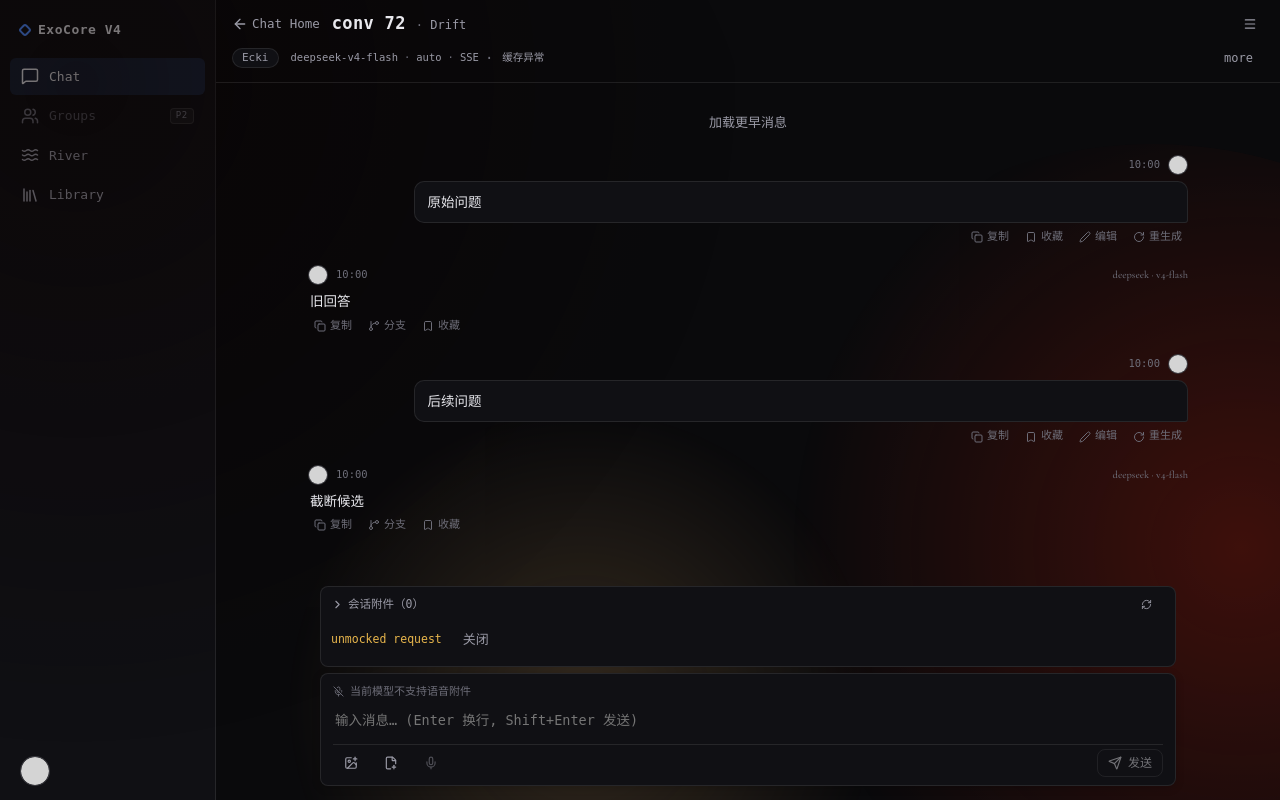
C1B-R1 repair invariants — canonical reconciliation (R1-03) › destructive regenerate resets the whole family; truncated descendants cannot return via older pages
Expected: the text "截断候选" is shown, [310,493,364,509]
Note: Load an older page so stale offset rows are cached.
Click the button "加载更早消息". click: {"x": 748, "y": 123}
box: [694,105,802,140]
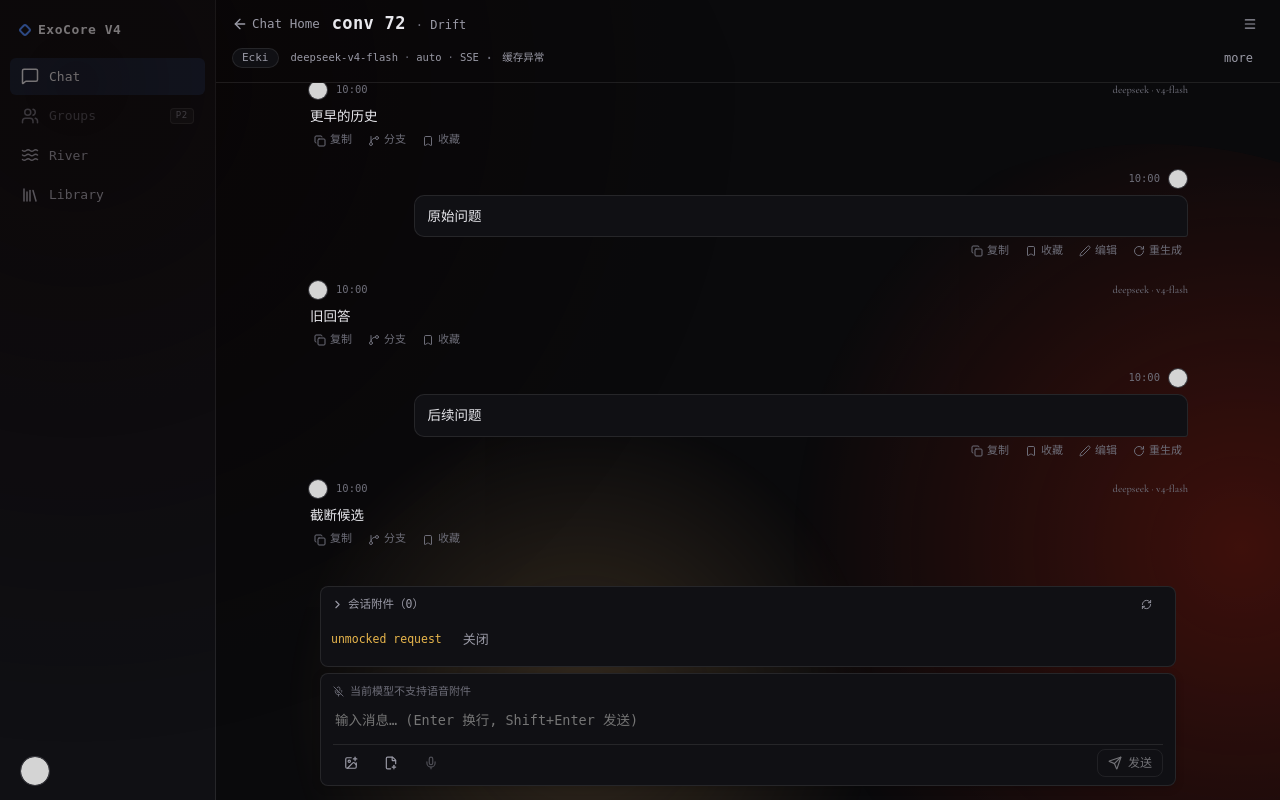
Now the text "更早的历史" is shown, box [310,108,378,124]
Note: Regenerate the FIRST (non-latest) user message → truncation confirm.
Click the button with aria-label "重新生成回答". click: {"x": 1158, "y": 251}
box: [1127,241,1188,262]
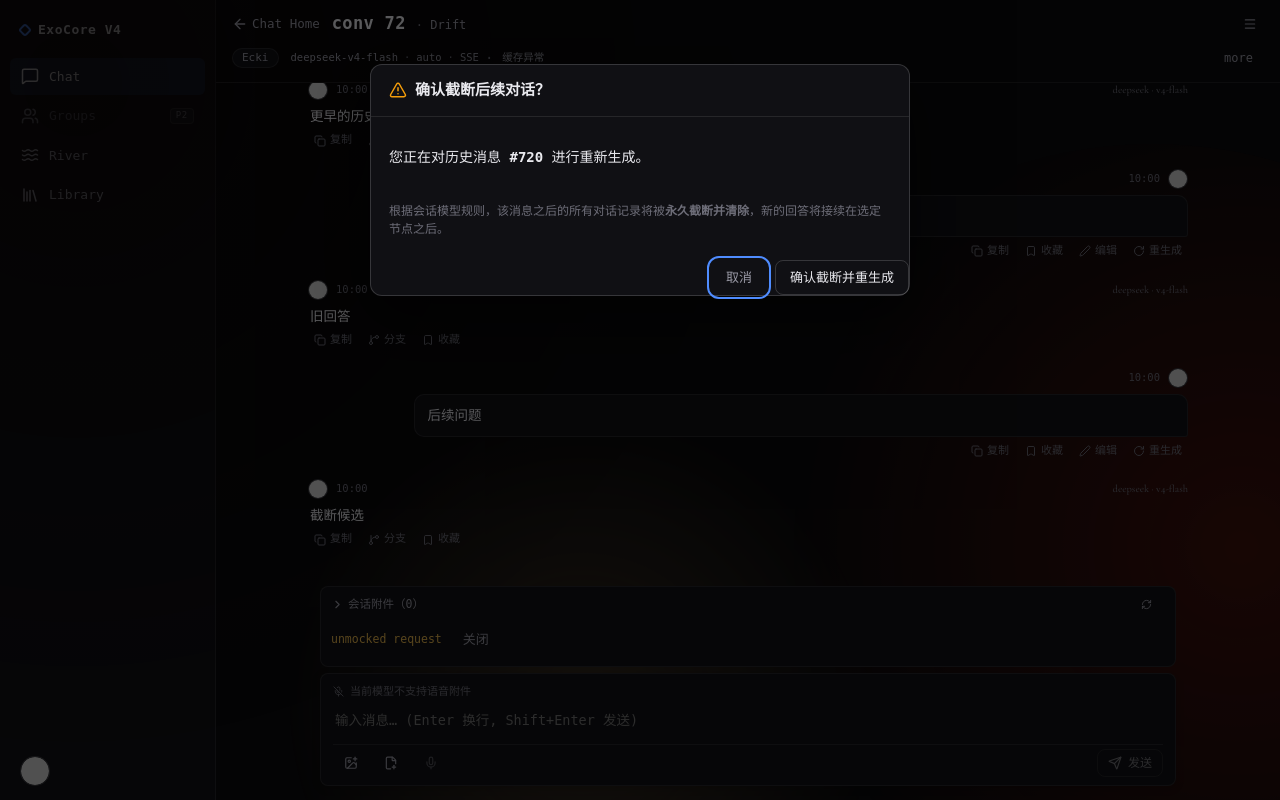
Click the button "确认截断并重生成". click: {"x": 842, "y": 277}
box: [775,260,909,295]
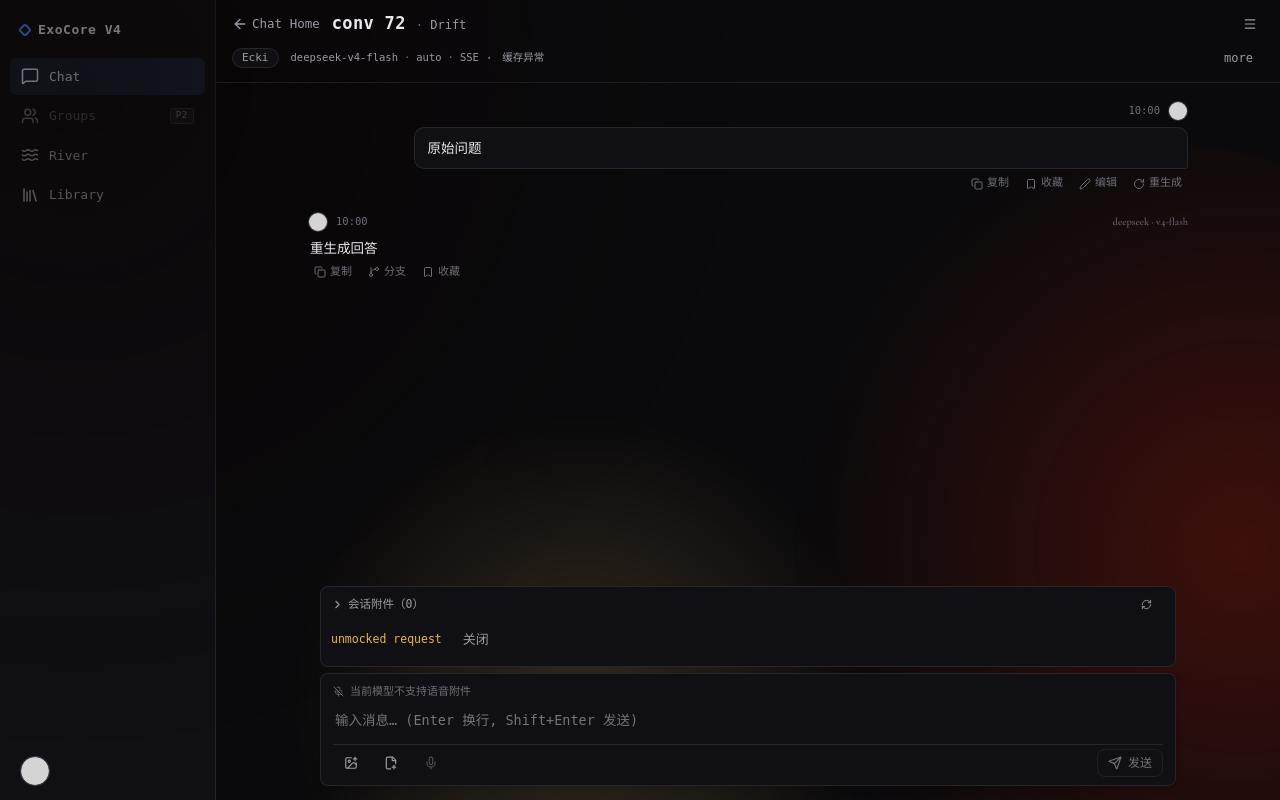
Now the text "重生成回答" is shown, box [310,240,378,256]
Now the text "截断候选" is gone
Now the text "后续问题" is gone
